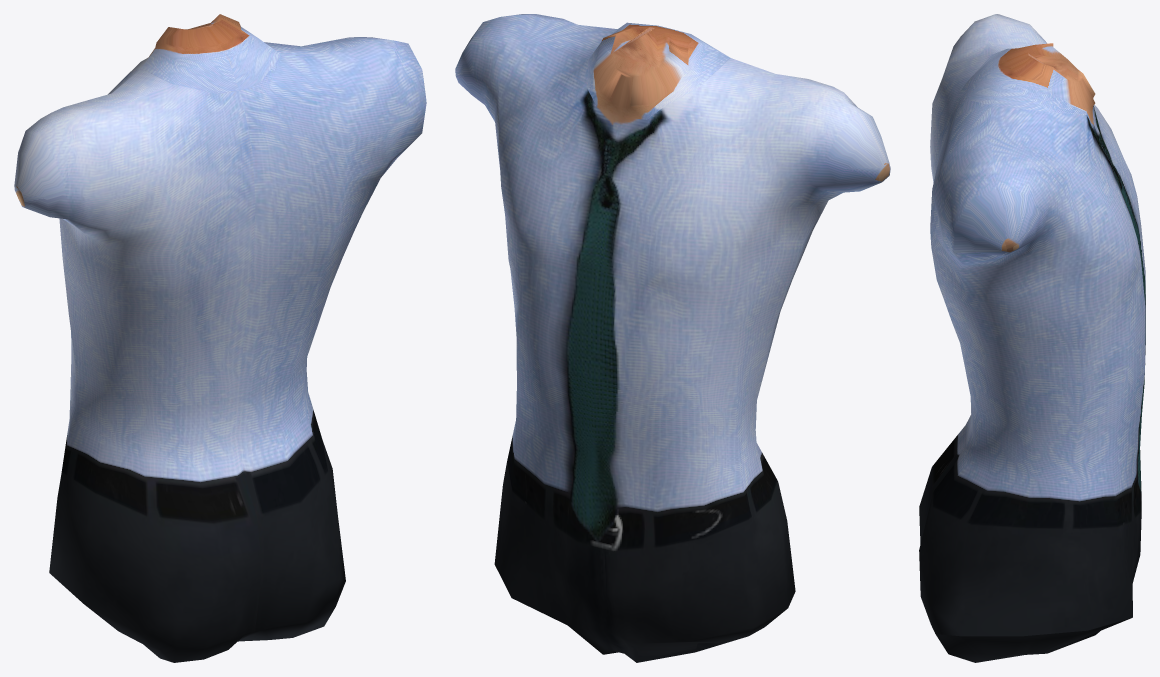
Rendered from Body.dae.
3 renders of one model, left to right at view 1: azimuth 30°, elevation 25°; view 2: azimuth 150°, elevation 25°; view 3: azimuth 270°, elevation 25°, orthographic. The views are drawn at different scales.
Parts seen in each view (by area): view 1: H_DDS_LowRes; view 2: H_DDS_LowRes; view 3: H_DDS_LowRes.
Part boxes in pixels (<box>): H_DDS_LowRes: <box>14,14,426,662</box>; H_DDS_LowRes: <box>455,14,890,662</box>; H_DDS_LowRes: <box>919,14,1145,662</box>.
Bounding box in the file's own units: 0.5 × 0.2469 × 0.7004.
1 material, 1 textured.
